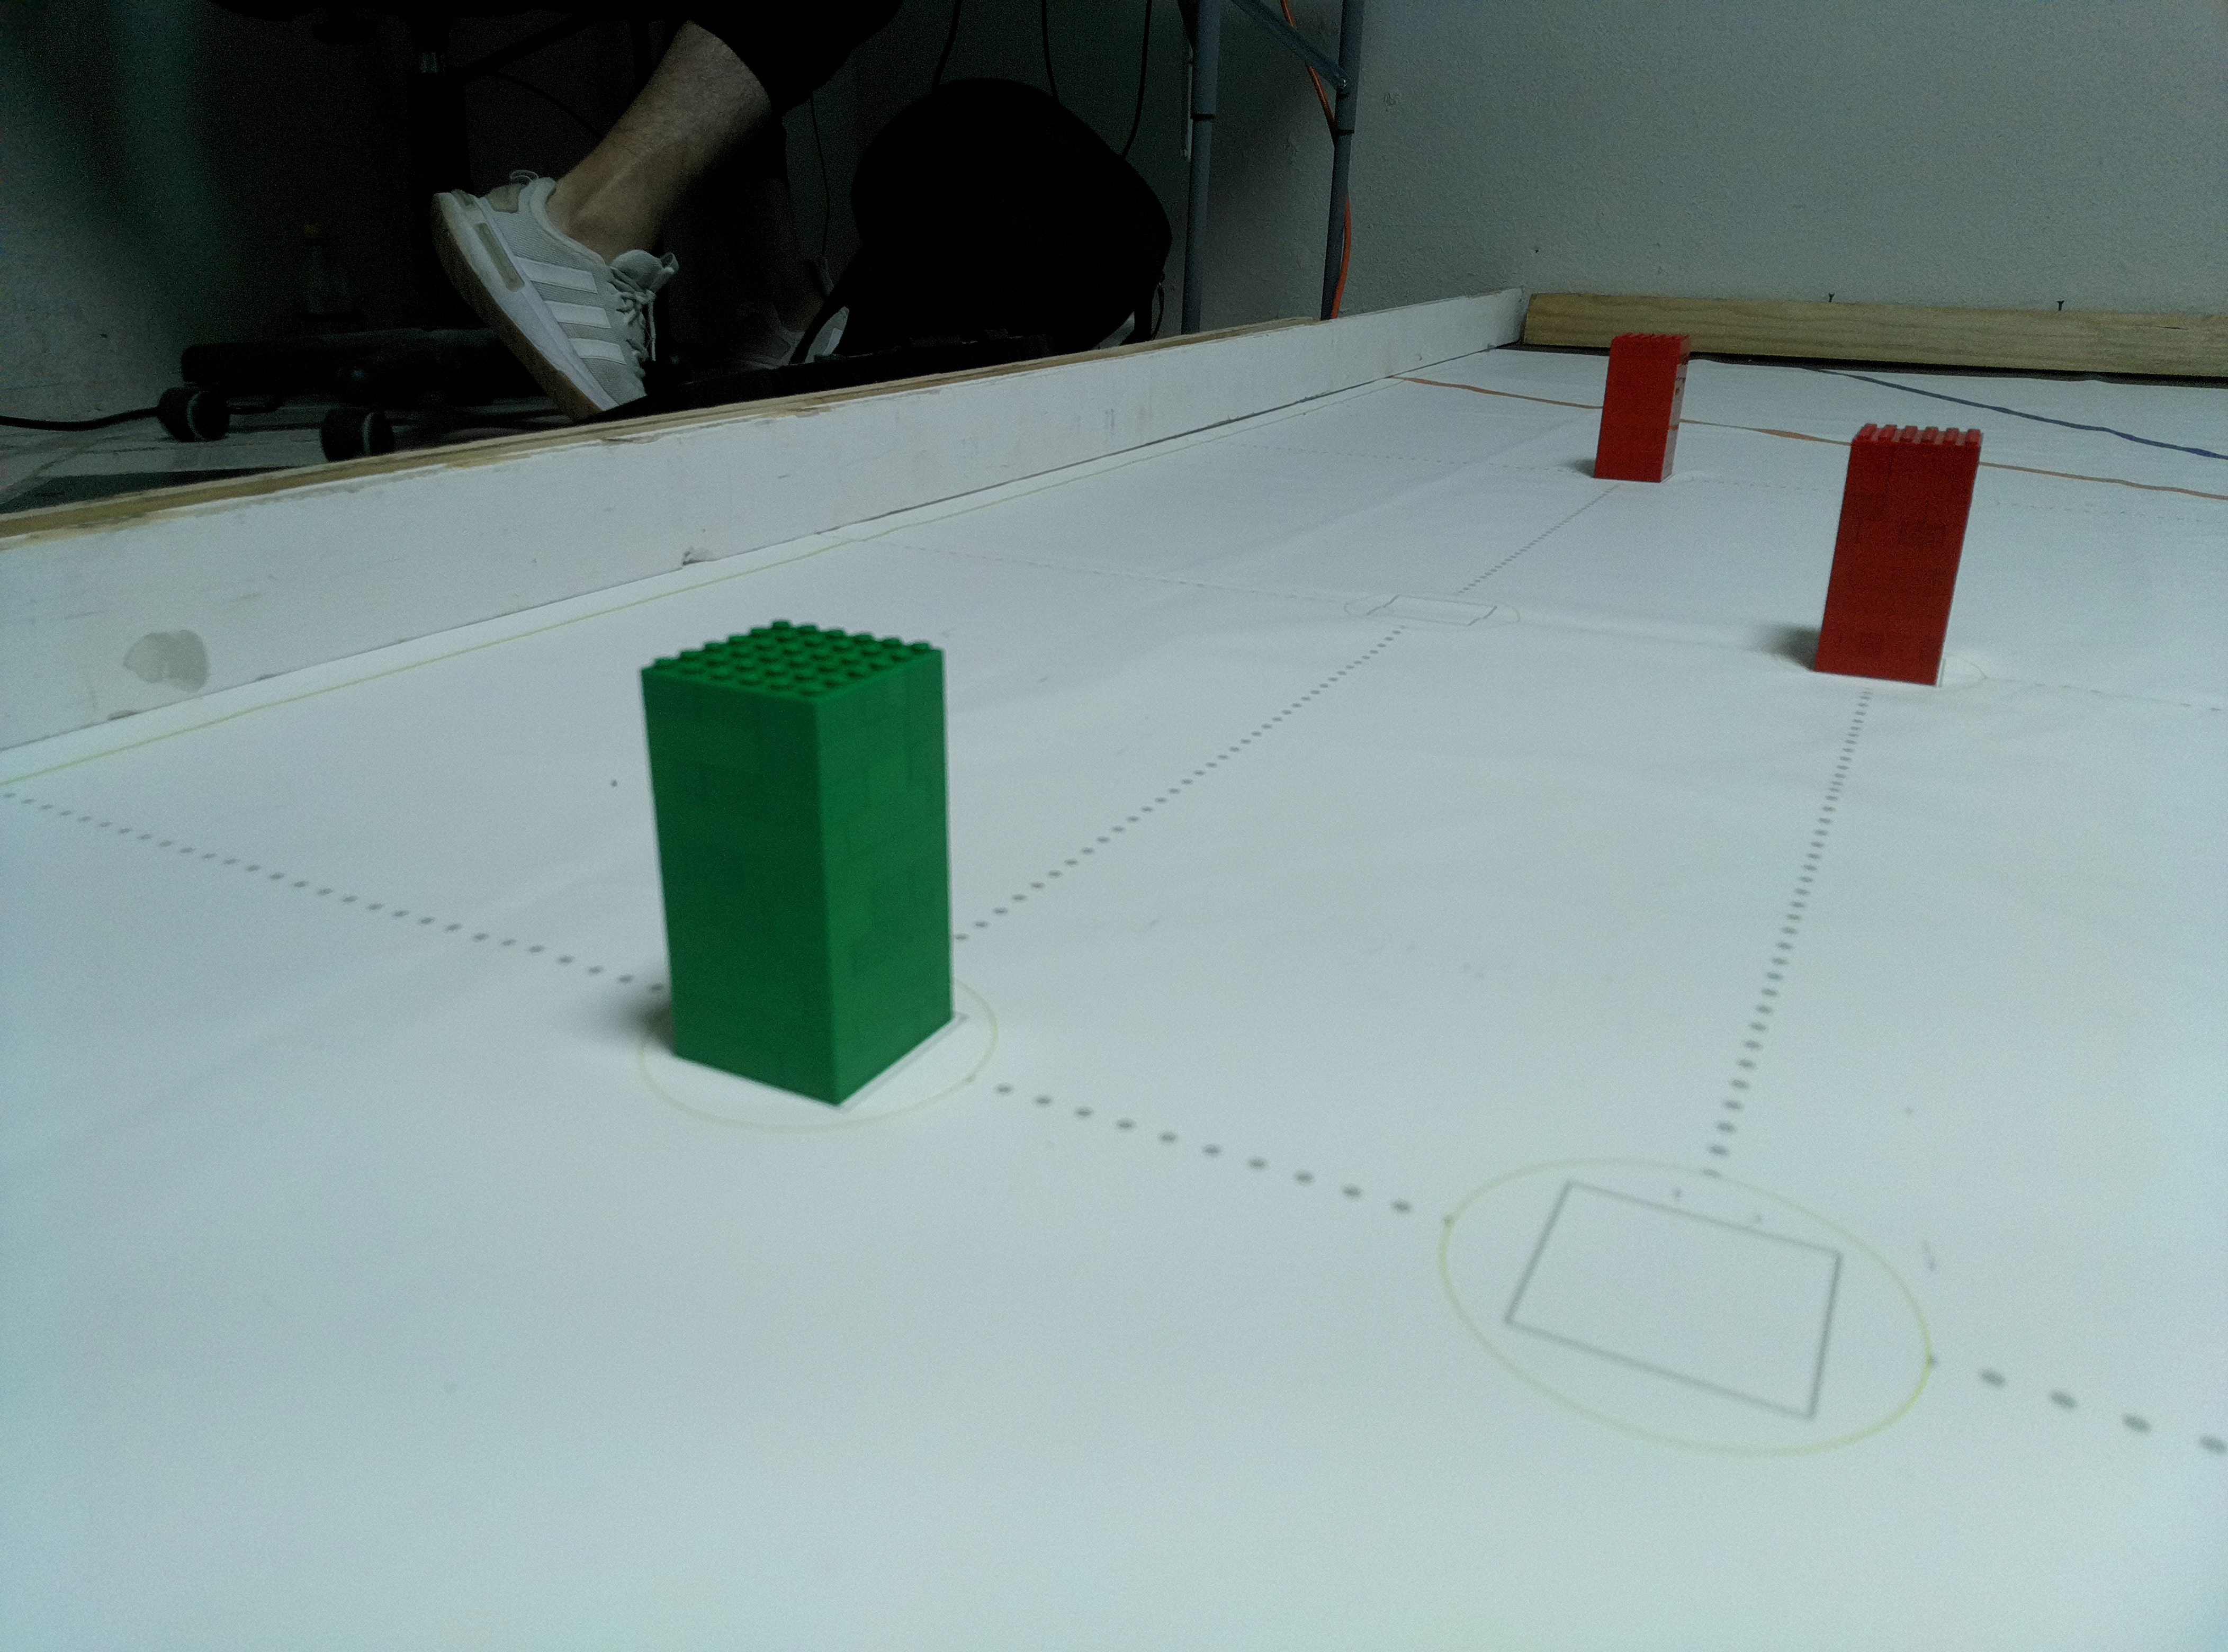greenbox: (632, 604, 973, 1109)
redbox: (1810, 420, 1987, 692), (1589, 330, 1699, 489)
